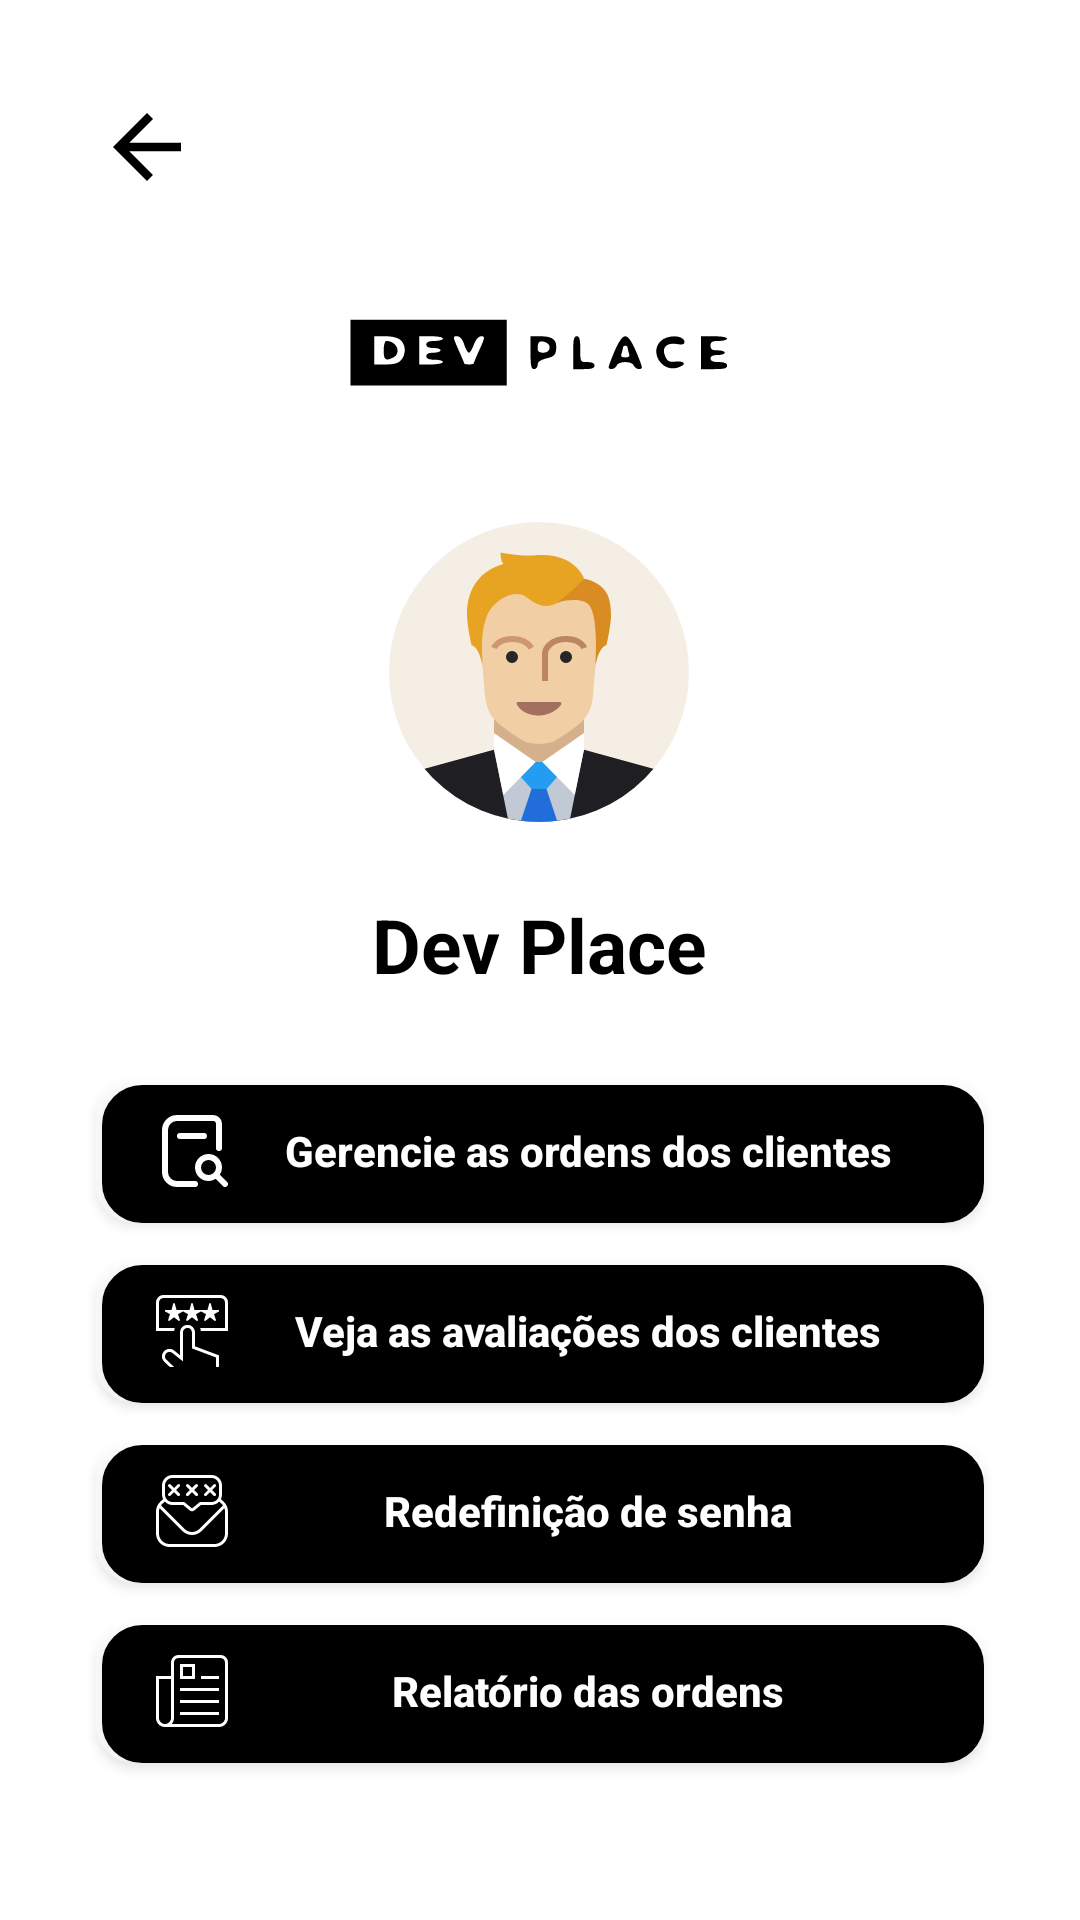

Screen size 1080px x 1920px. Icon name, then its center in pixels as [x,y]:
business male: [539,672]
voltar nav: [147,147]
